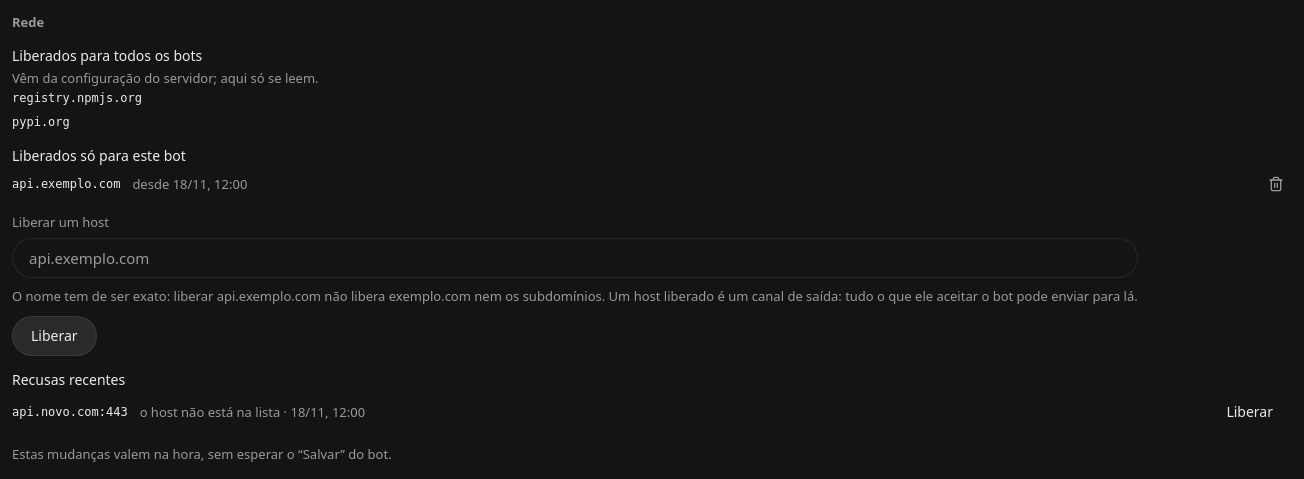
it: the Rede section of a bot › removes a host of the bot, and the list is the server's answer
Expected: the list with test id "network-hosts" is shown, [12,168,1292,200]
Click the button named "Remover api.exemplo.com" at x=1276, y=184, box [1260,168,1292,200]
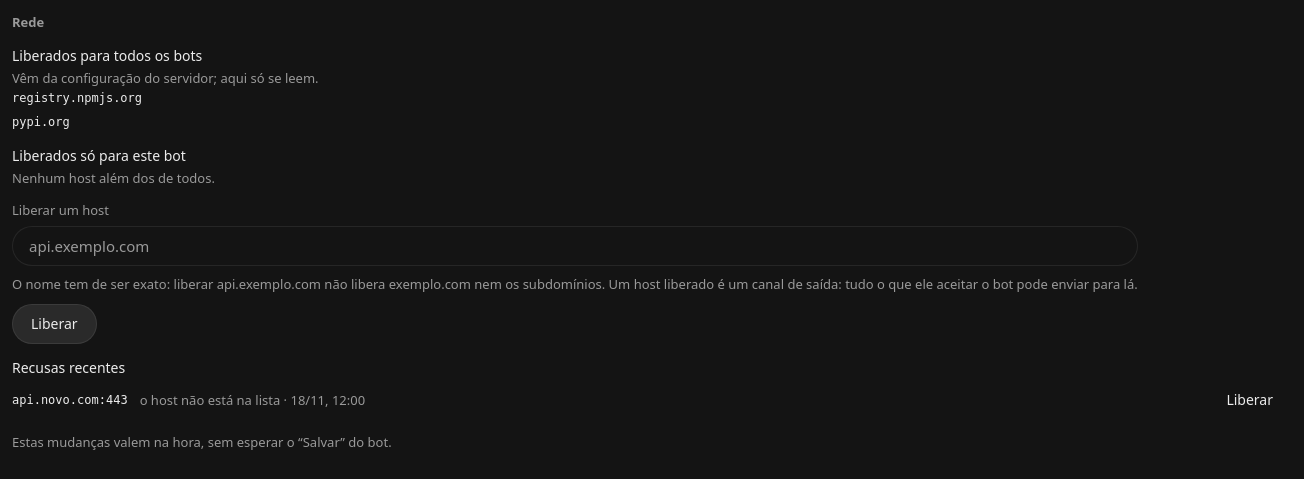
Expected: the text with test id "network-hosts-empty" shows "Nenhum host", [12,169,215,187]
